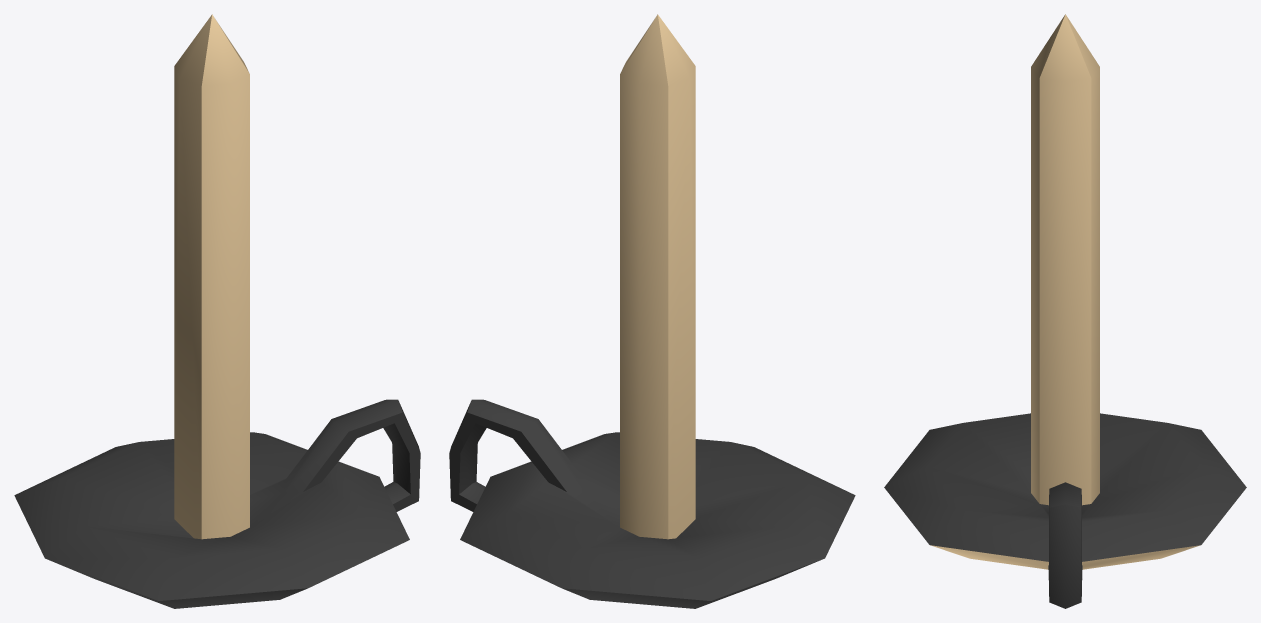
File: Candle_01.FBX
The picture shows the model from 3 angles, left to right: view 1: azimuth 30°, elevation 25°; view 2: azimuth 150°, elevation 25°; view 3: azimuth 270°, elevation 25°; orthographic projection. The views are drawn at different scales.
Visible parts, largest first — view 1: Box001; view 2: Box001; view 3: Box001.
Part boxes in pixels (<box>): Box001: <box>14,14,420,608</box>; Box001: <box>449,14,855,608</box>; Box001: <box>884,14,1246,608</box>.
Bounding box in the file's own units: 0.2451 × 0.3423 × 0.219.
